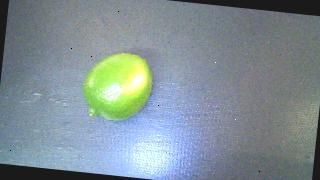EXPORTACION: (79, 49, 155, 124)
